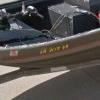Boat: (1, 15, 97, 71)
